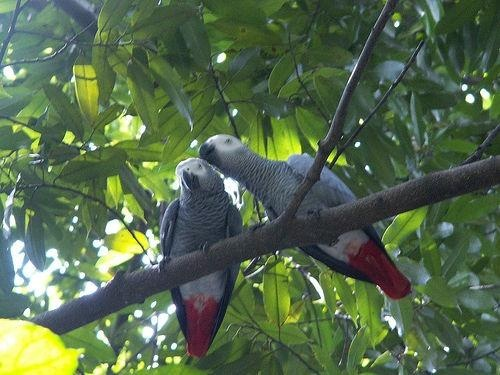bird: (199, 135, 413, 302), (160, 157, 246, 358)
